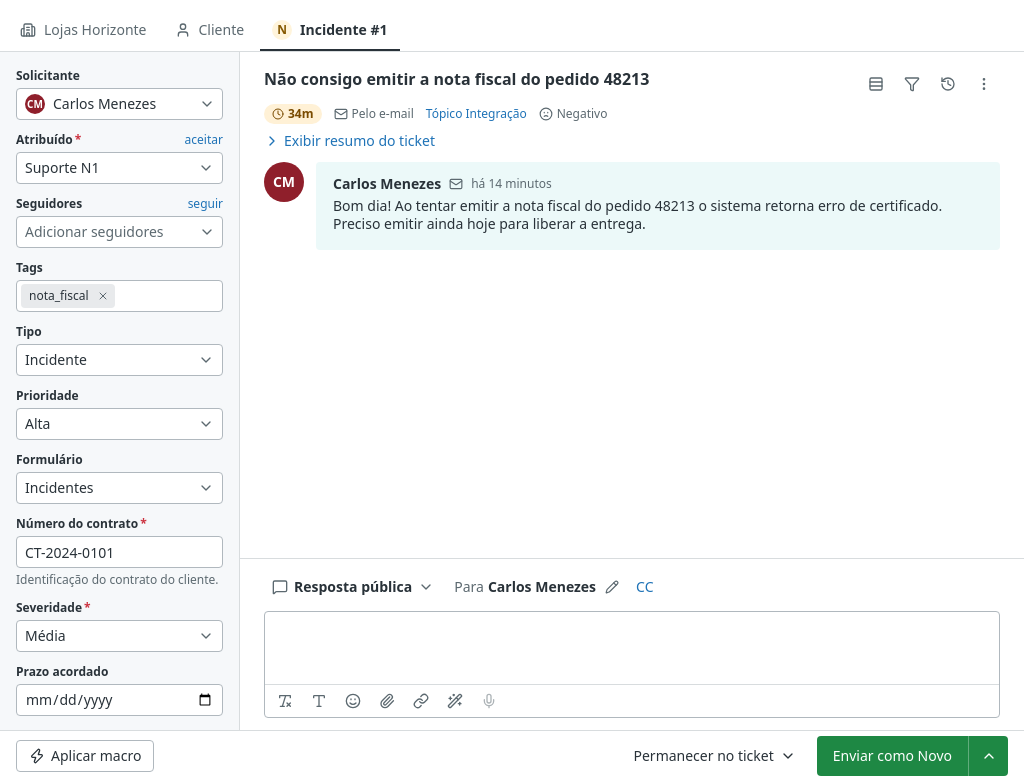
resumo de IA na conversa › 502 vira erro com mensagem clara e dá para tentar de novo
This screenshot has width=1024, height=780.
Step 1. Click the button "Exibir resumo do ticket" → (349, 141), box [264,132,435,150]
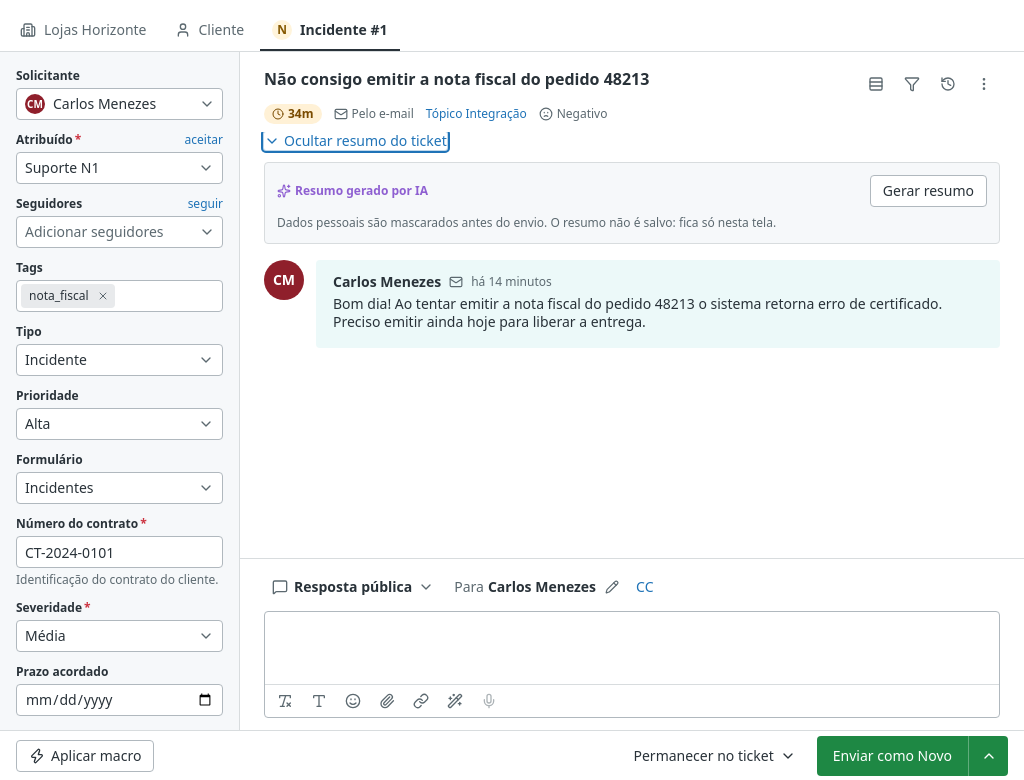
Step 2. Click the button "Gerar resumo" → (928, 191), box [870,175,987,207]
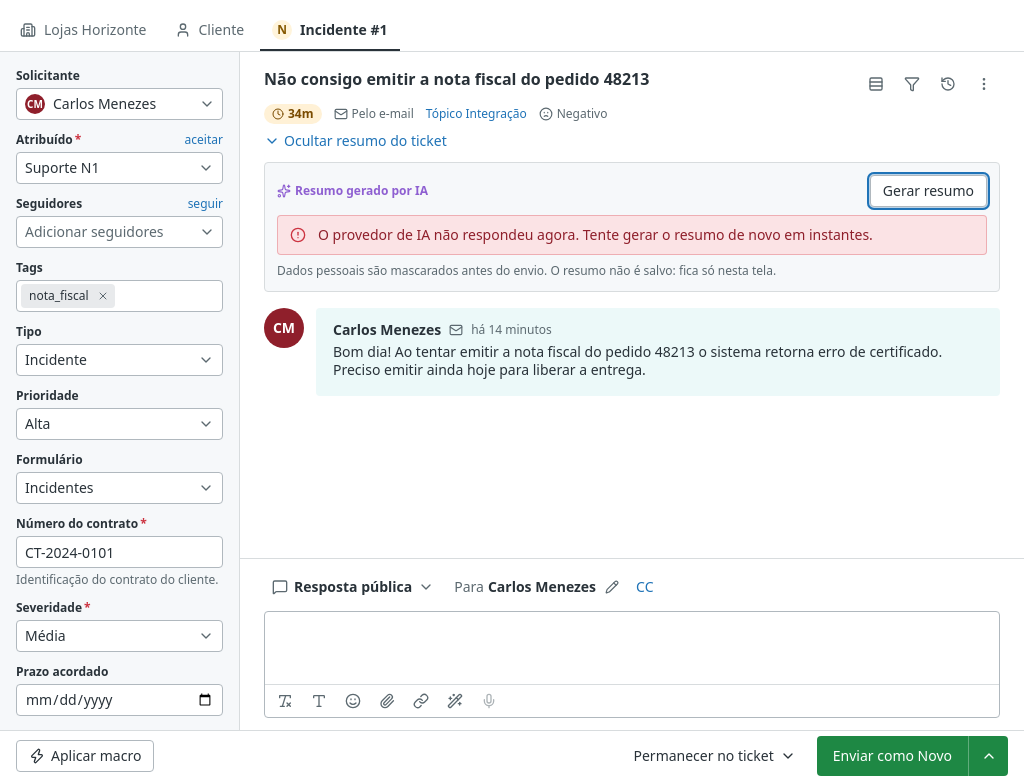
Expected: the button "Gerar resumo" is enabled, [870,175,987,207]
Expected: the message reads "O provedor de IA não respondeu agora. Tente gerar o resumo de novo em instantes.", [318,225,873,244]
